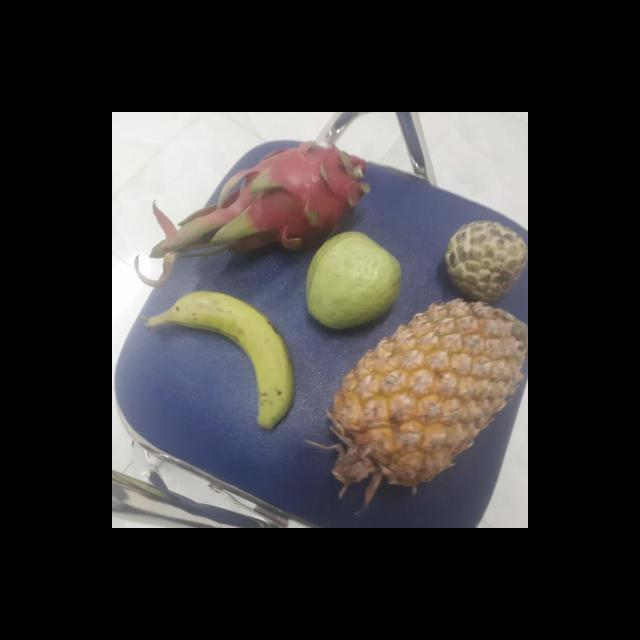Sakya fruit: (441, 222, 527, 302)
banana: (155, 292, 292, 425)
guava: (302, 234, 404, 328)
pineapple: (324, 304, 525, 486)
pitaya: (237, 140, 365, 252)
